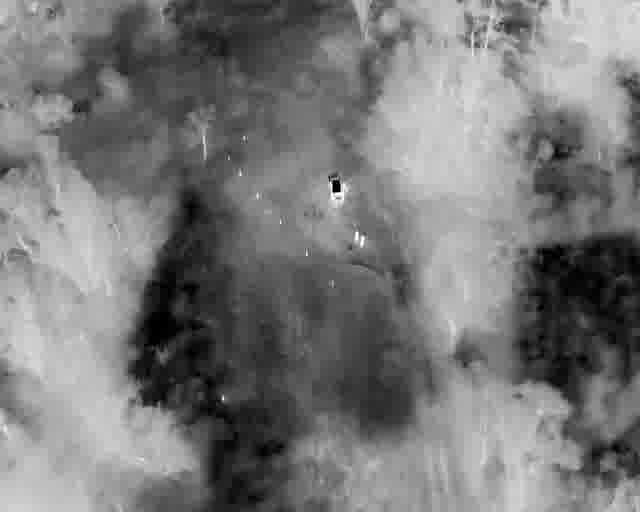car: (288, 162, 296, 169)
person: (340, 248, 343, 256), (340, 241, 343, 247), (290, 166, 292, 173), (339, 244, 341, 250), (343, 244, 345, 248)
